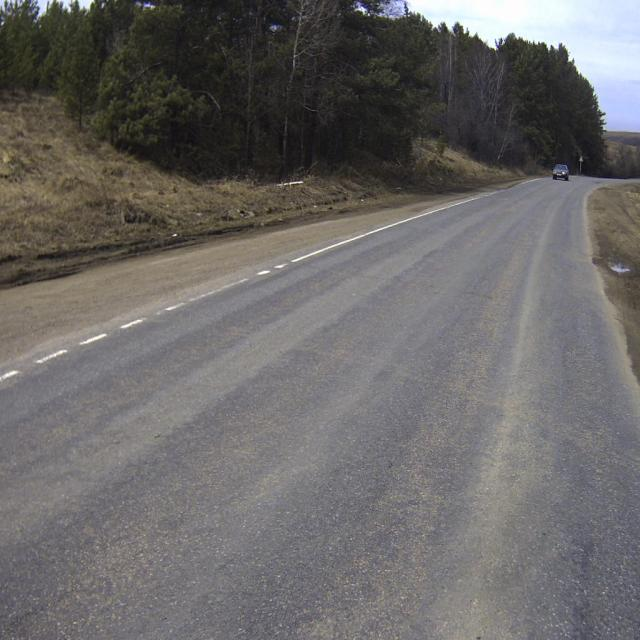road: (0, 177, 640, 639)
